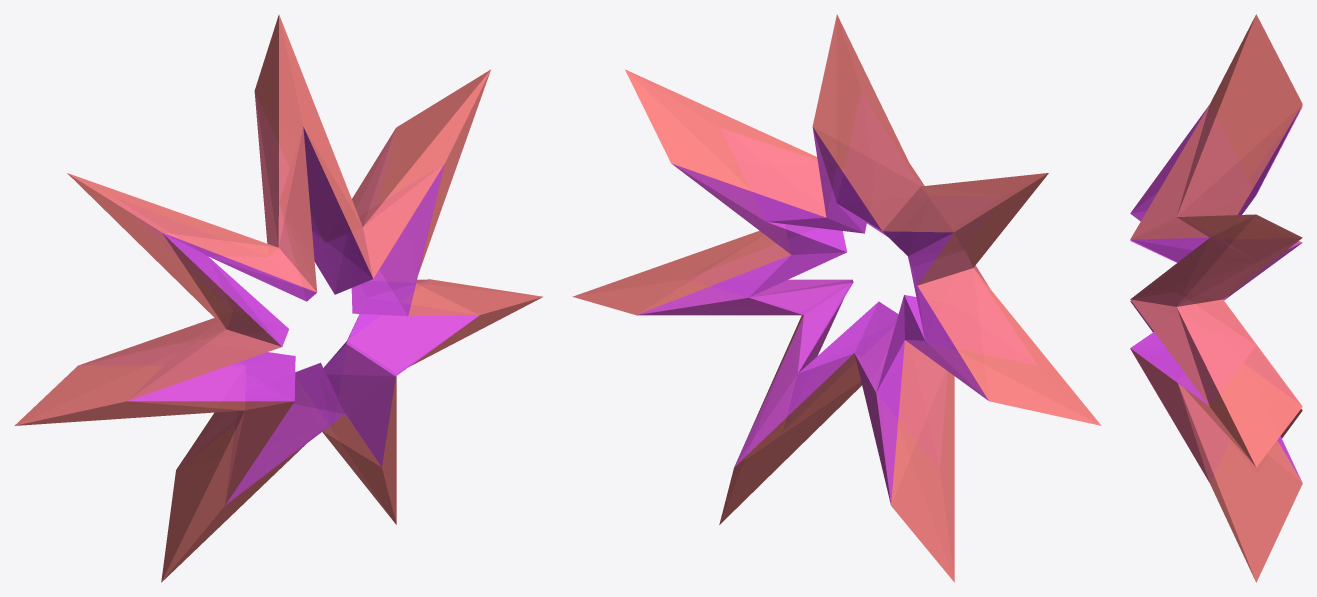
Rendered from Regular7TetragonalStarToroid1.obj.
3 renders of one model, left to right at view 1: azimuth 30°, elevation 25°; view 2: azimuth 150°, elevation 25°; view 3: azimuth 270°, elevation 25°, orthographic. The views are drawn at different scales.
Bounding box in the file's own units: 4.38 × 4.27 × 1.3.
